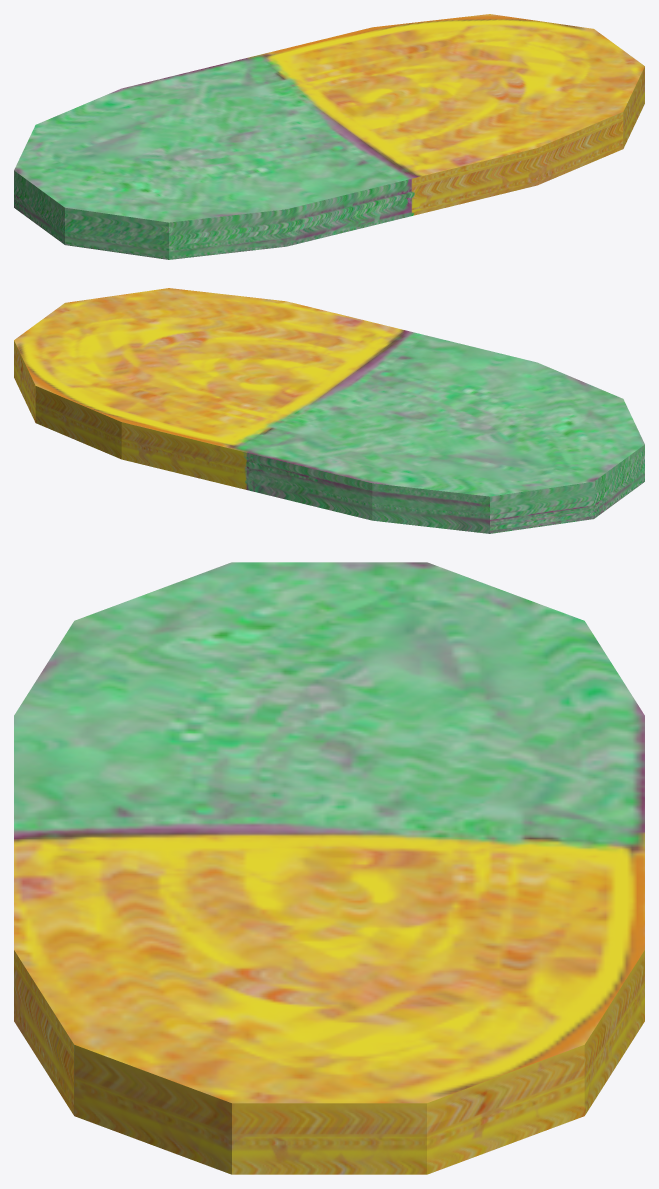
Rendered from SM_Pill_Green.fbx.
3 renders of one model, top to bottom at view 1: azimuth 30°, elevation 25°; view 2: azimuth 150°, elevation 25°; view 3: azimuth 270°, elevation 25°, orthographic. The views are drawn at different scales.
Parts seen in each view (by area): view 1: SM_Pill_Green; view 2: SM_Pill_Green; view 3: SM_Pill_Green.
Part boxes in pixels (<box>): SM_Pill_Green: <box>14,14,644,259</box>; SM_Pill_Green: <box>14,288,644,533</box>; SM_Pill_Green: <box>14,562,644,1174</box>.
Size of the model in its own units: 0.3117 by 0.0192 by 0.1536.
